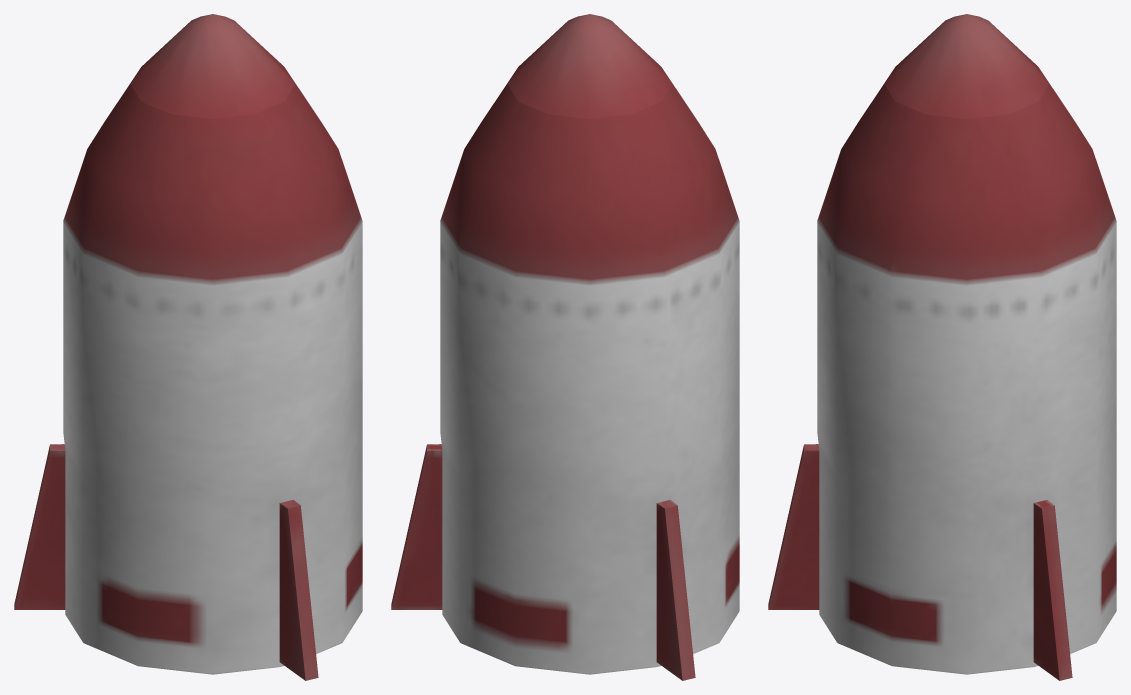
File: rocket.glb
The picture shows the model from 3 angles, left to right: view 1: azimuth 30°, elevation 25°; view 2: azimuth 150°, elevation 25°; view 3: azimuth 270°, elevation 25°; orthographic projection.
Visible parts, largest first — view 1: turret_rocket_low; view 2: turret_rocket_low; view 3: turret_rocket_low.
Boxes of the visible parts, x1,y1,x2,y2 form: turret_rocket_low: (14, 14, 362, 680); turret_rocket_low: (391, 14, 739, 680); turret_rocket_low: (768, 14, 1116, 680).
Size of the model in its own units: 18.59 by 34.9 by 18.42.
Materials: 1 (1 with a texture image).
